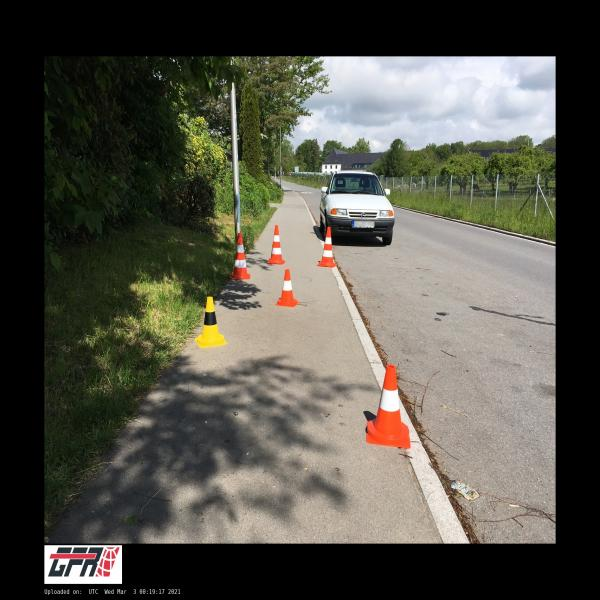large_orange_cone: (231, 233, 250, 279), (317, 227, 337, 267), (267, 226, 285, 264)
orange_cone: (367, 364, 410, 449), (275, 270, 299, 307)
yellow_cone: (194, 297, 226, 348)
